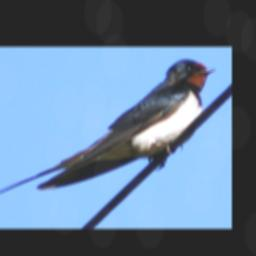Swallow: (0, 58, 217, 211)
